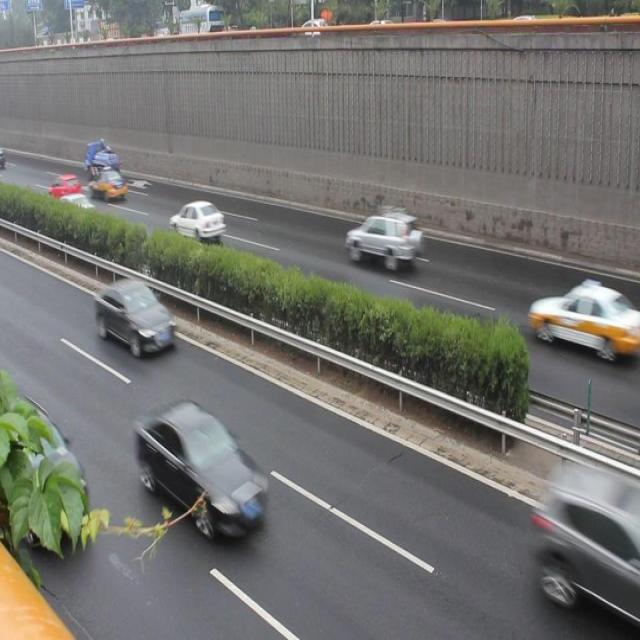car: (134, 397, 271, 543), (528, 449, 640, 625), (518, 273, 632, 365), (99, 276, 179, 360), (344, 208, 422, 272), (168, 190, 223, 245), (89, 163, 127, 206), (60, 190, 100, 230)
